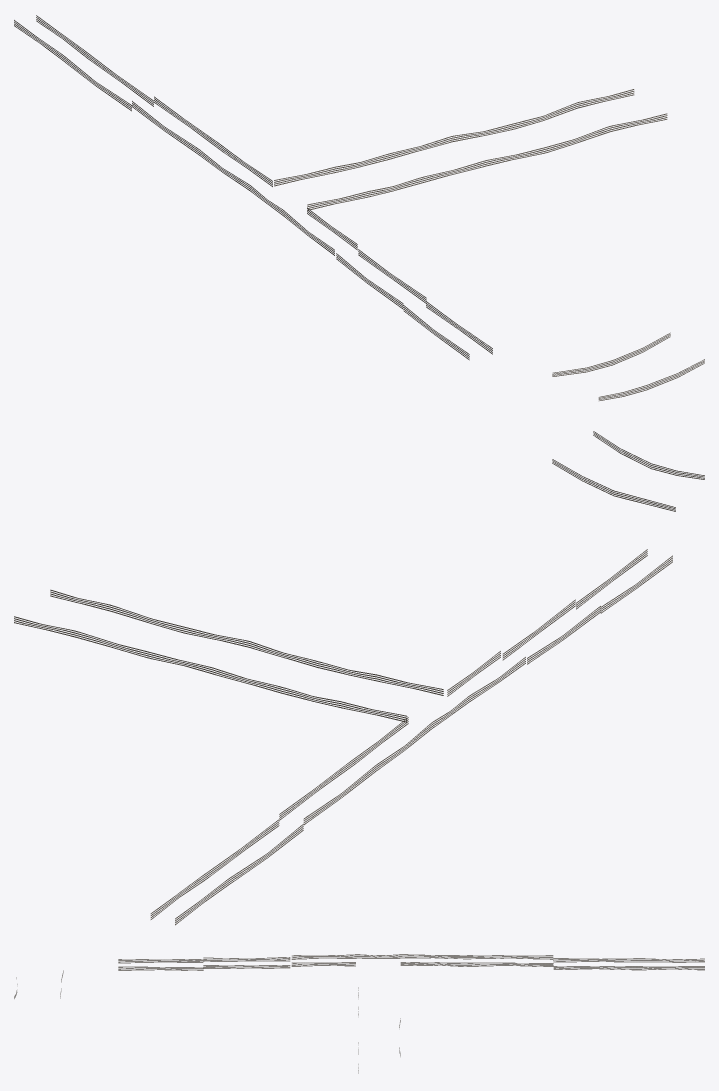
File: prtbrdgrope2_lvs.obj
3 views of the same model, one above another, from view 1: azimuth 30°, elevation 25°; view 2: azimuth 150°, elevation 25°; view 3: azimuth 270°, elevation 25° (orthographic). The views are drawn at different scales.
Parts seen in each view (by area): view 1: prtbrdgrope2_lvS; view 2: prtbrdgrope2_lvS; view 3: prtbrdgrope2_lvS.
Boxes of the visible parts, box(x1,y1,x2,y2) form: prtbrdgrope2_lvS: box(14, 15, 704, 400); prtbrdgrope2_lvS: box(14, 431, 704, 925); prtbrdgrope2_lvS: box(14, 954, 704, 1073).
Size of the model in its own units: 65.67 by 4.01 by 159.
Materials: 1 (1 with a texture image).
